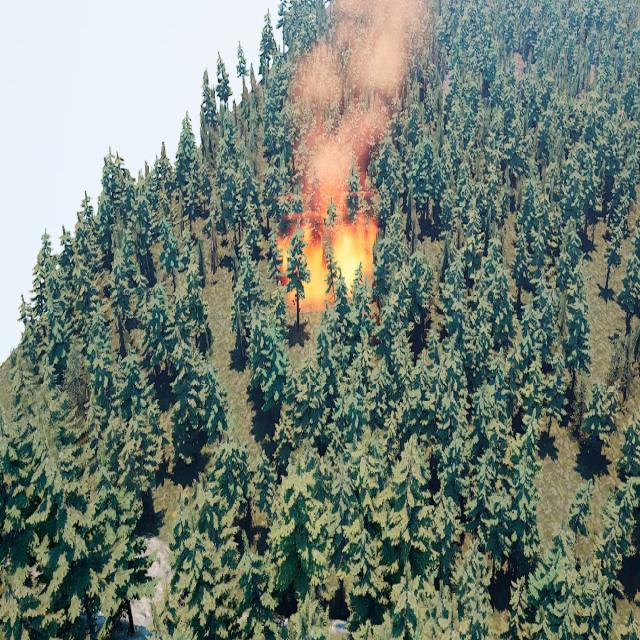fire: (279, 208, 378, 304)
smoke: (286, 0, 433, 205)
